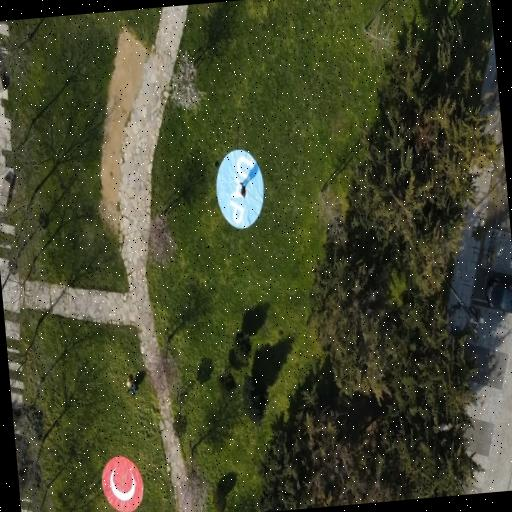UAI: (102, 456, 144, 512)
UAP: (217, 150, 264, 228)
person: (240, 182, 245, 197)
